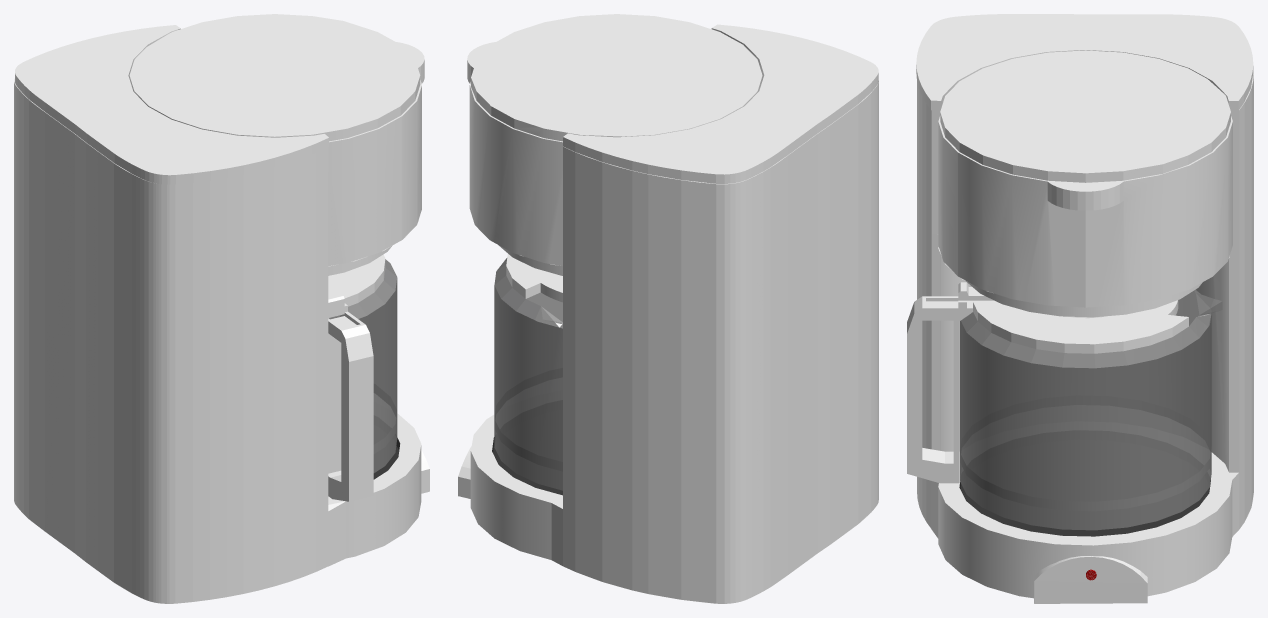
Rendered from coffee maker.dae.
3 views of the same model, side by side, from view 1: azimuth 30°, elevation 25°; view 2: azimuth 150°, elevation 25°; view 3: azimuth 270°, elevation 25° (orthographic).
Parts seen in each view (by area): view 1: SketchUp (×9); view 2: SketchUp (×9); view 3: SketchUp (×10).
Part boxes in pixels (box(x1,y1,x2,y2)): SketchUp (×9): box(14, 14, 429, 603); SketchUp (×9): box(458, 14, 878, 603); SketchUp (×10): box(907, 14, 1253, 603).
Size of the model in its own units: 9.47 by 8.24 by 11.26.
6 materials, 5 textured.
